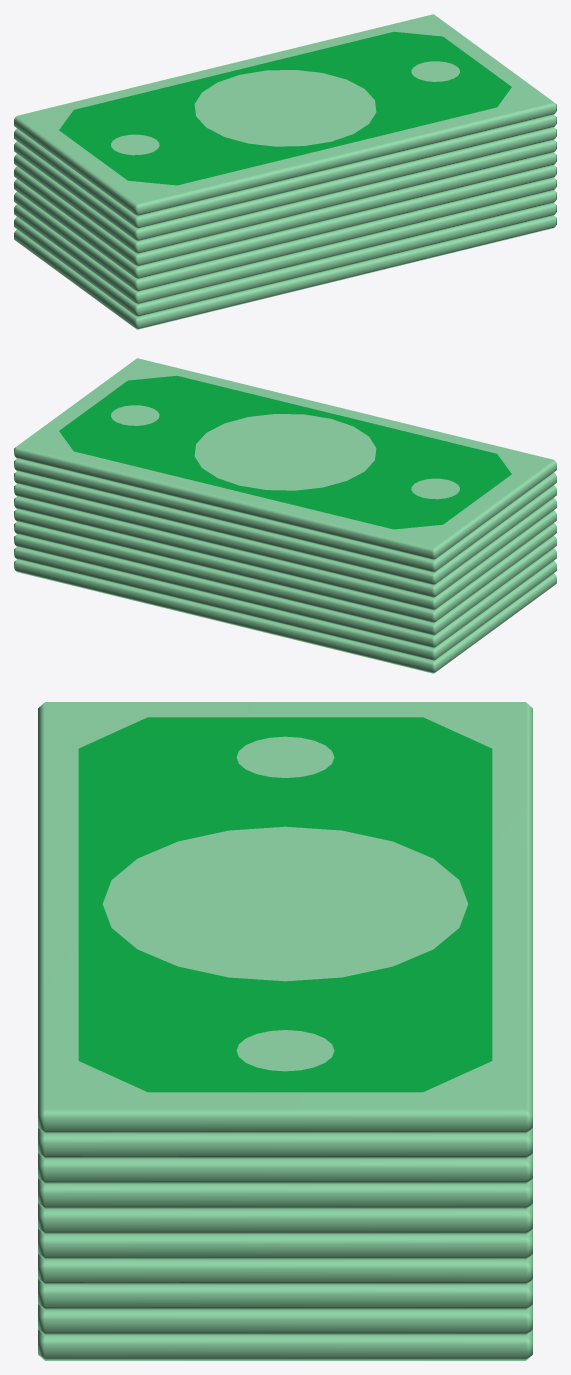
File: Public_1_Stack_of_Money_1.glb
The picture shows the model from 3 angles, top to bottom: view 1: azimuth 30°, elevation 25°; view 2: azimuth 150°, elevation 25°; view 3: azimuth 270°, elevation 25°; orthographic projection. The views are drawn at different scales.
Visible parts, largest first — view 1: Public_1_Stack_of_Money_1; view 2: Public_1_Stack_of_Money_1; view 3: Public_1_Stack_of_Money_1.
Boxes of the visible parts, x1,y1,x2,y2 form: Public_1_Stack_of_Money_1: (14, 14, 556, 329); Public_1_Stack_of_Money_1: (14, 358, 556, 673); Public_1_Stack_of_Money_1: (38, 702, 532, 1360).
Size of the model in its own units: 1.57 by 0.4529 by 0.7975.
1 material, 1 textured.
